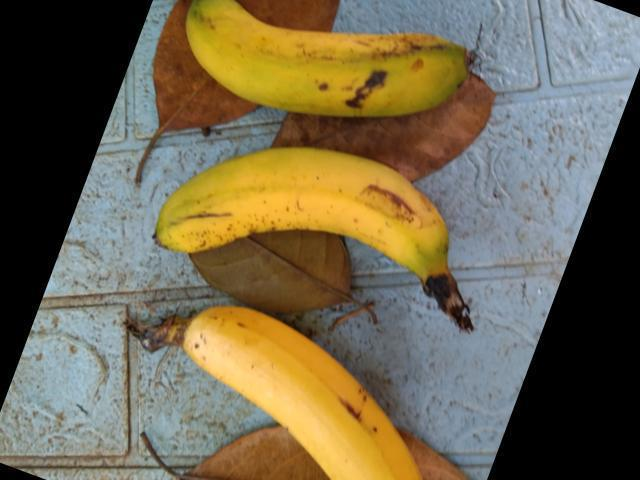freshripe: (158, 320, 432, 479)
ripe: (135, 128, 479, 290), (169, 0, 470, 116)
